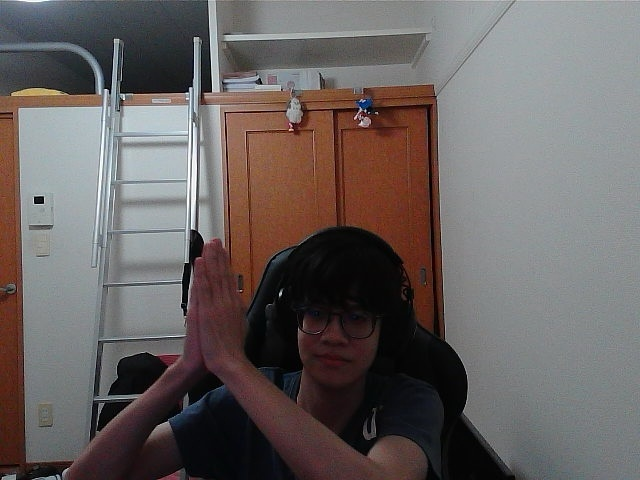pray: (200, 242, 244, 353)
